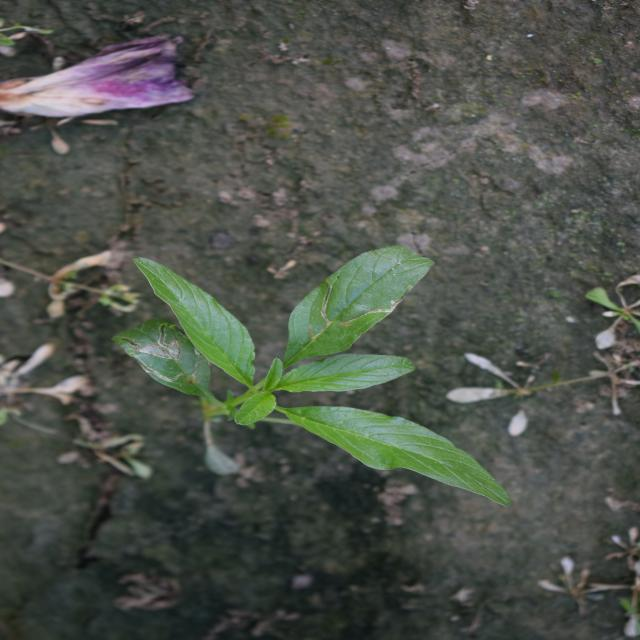Waterhemp: (107, 243, 516, 510)
